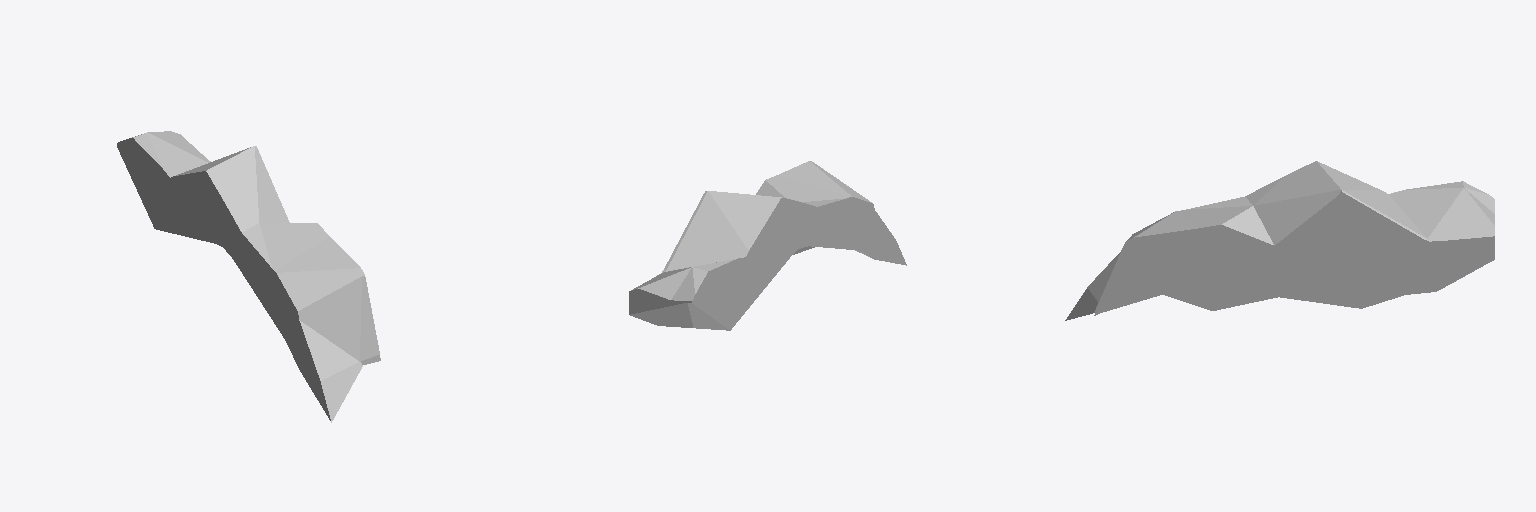
File: broken_wall_06.obj
The picture shows the model from 3 angles: view 1: azimuth 30°, elevation 25°; view 2: azimuth 150°, elevation 25°; view 3: azimuth 270°, elevation 25°; orthographic projection.
Visible parts, largest first — view 1: Cube.011_Cube.021; view 2: Cube.011_Cube.021; view 3: Cube.011_Cube.021.
Part boxes in pixels (x1,y1,x2,y2): Cube.011_Cube.021: (117, 131, 380, 422); Cube.011_Cube.021: (629, 161, 906, 330); Cube.011_Cube.021: (1065, 161, 1494, 320).
Bounding box in the file's own units: 0.5 × 1.21 × 2.92.